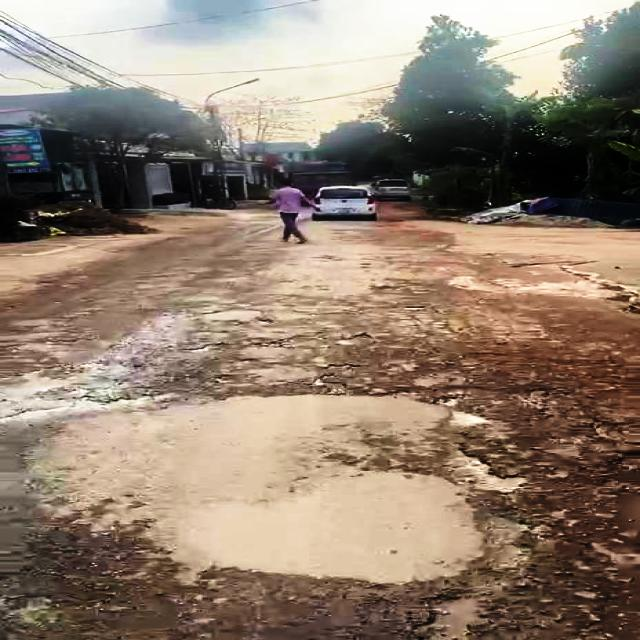pothole: (407, 583, 505, 640), (444, 436, 534, 494), (569, 414, 640, 487), (307, 359, 367, 395), (589, 279, 640, 316), (176, 340, 228, 354), (247, 336, 305, 348)
